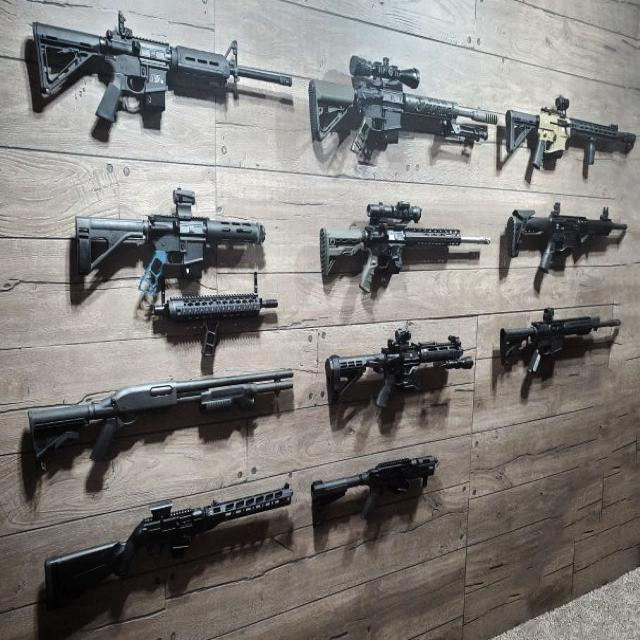Rifle: (23, 12, 293, 143), (76, 188, 266, 300), (309, 56, 498, 161), (319, 202, 490, 293), (324, 330, 474, 408), (507, 96, 636, 169), (505, 203, 627, 269), (501, 309, 621, 373)
ShotGun: (43, 482, 293, 602), (27, 370, 295, 462)
